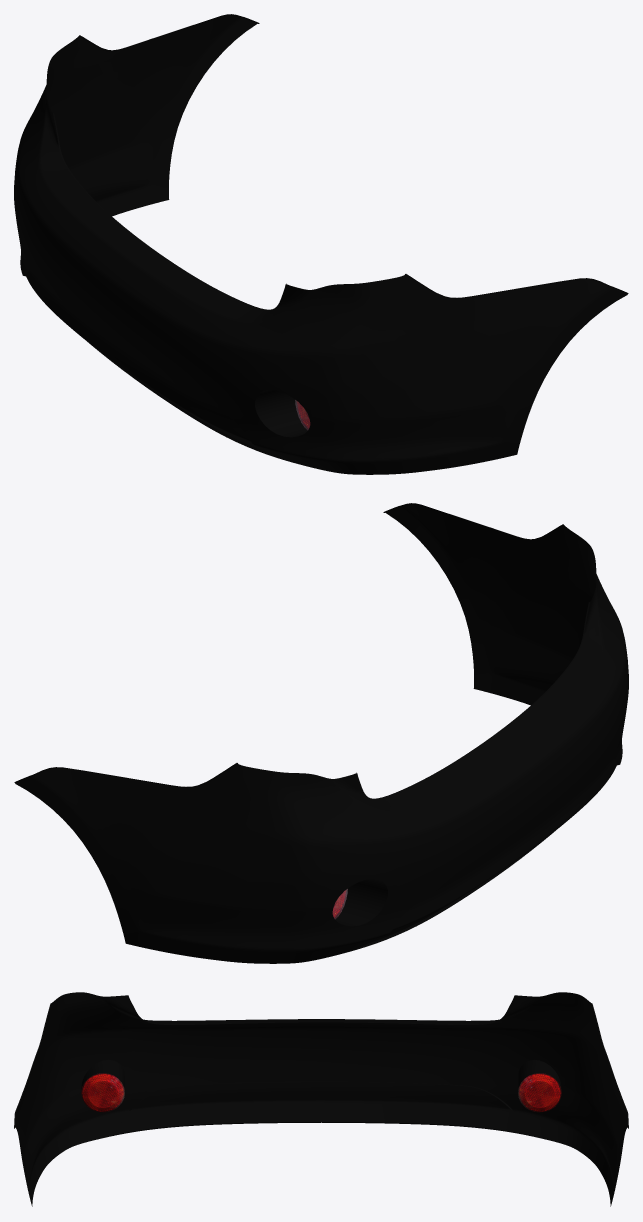
3 views of the same model, one above another, from view 1: azimuth 30°, elevation 25°; view 2: azimuth 150°, elevation 25°; view 3: azimuth 270°, elevation 25° (orthographic). The views are drawn at different scales.
Visible parts, largest first — view 1: Y212_561G_C_Y212_561G_C_3_DaS, Y212_561G_C_Y212_561G_C_3_DaS_E; view 2: Y212_561G_C_Y212_561G_C_3_DaS, Y212_561G_C_Y212_561G_C_3_DaS_E; view 3: Y212_561G_C_Y212_561G_C_3_DaS, Y212_561G_C_Y212_561G_C_3_DaS_E, Y212_561G_C_1_N_Y212_561G_C, Y212_561G_C_Y212_561G_C_2_N, Y212_561G_C_Y212_561G_C_7_D.
Boxes of the visible parts, left/top/right/bottom form: Y212_561G_C_Y212_561G_C_3_DaS: left=14, top=15, right=627, bottom=474; Y212_561G_C_Y212_561G_C_3_DaS_E: left=22, top=113, right=627, bottom=437; Y212_561G_C_Y212_561G_C_3_DaS: left=15, top=504, right=628, bottom=963; Y212_561G_C_Y212_561G_C_3_DaS_E: left=15, top=602, right=620, bottom=926; Y212_561G_C_Y212_561G_C_3_DaS: left=15, top=992, right=627, bottom=1206; Y212_561G_C_Y212_561G_C_3_DaS_E: left=14, top=995, right=628, bottom=1128; Y212_561G_C_1_N_Y212_561G_C: left=518, top=1073, right=561, bottom=1112; Y212_561G_C_Y212_561G_C_2_N: left=81, top=1073, right=124, bottom=1112; Y212_561G_C_Y212_561G_C_7_D: left=113, top=1122, right=529, bottom=1135.
Size of the model in its own units: 107 by 59.83 by 204.
